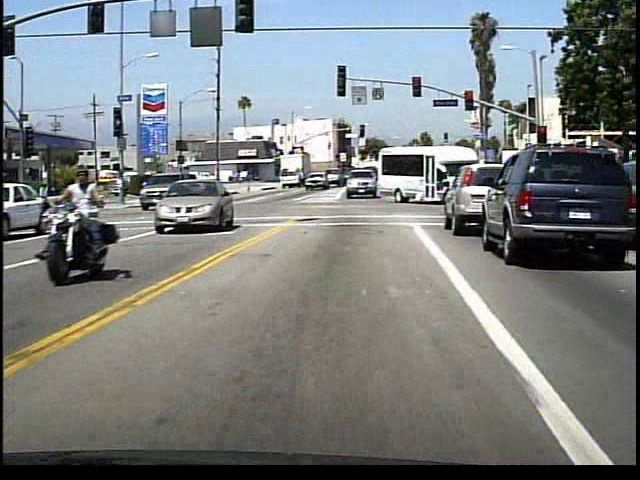person: (57, 159, 122, 279)
